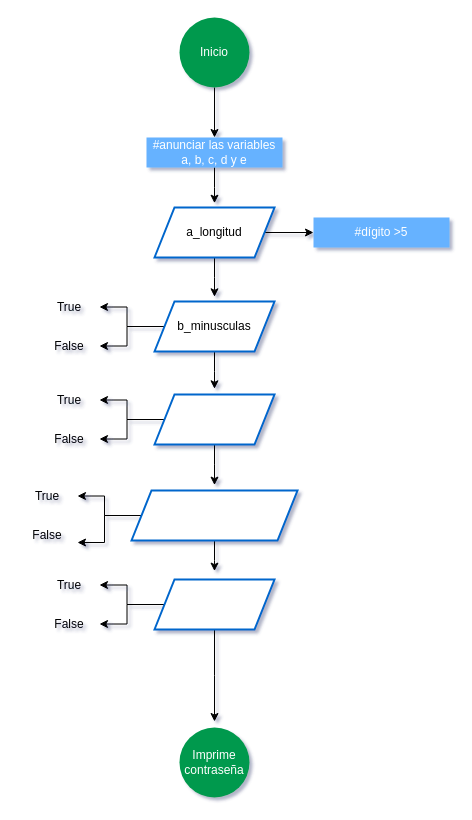
This 472x820 diagram has some shape labels left out. Here are the shapes that lost their labels. From the top down, the box of each, then its label:
(153, 393, 275, 445): c_mayusculas
(130, 489, 298, 541): d_caracteres_especiales
(153, 578, 275, 630): e_numeros
